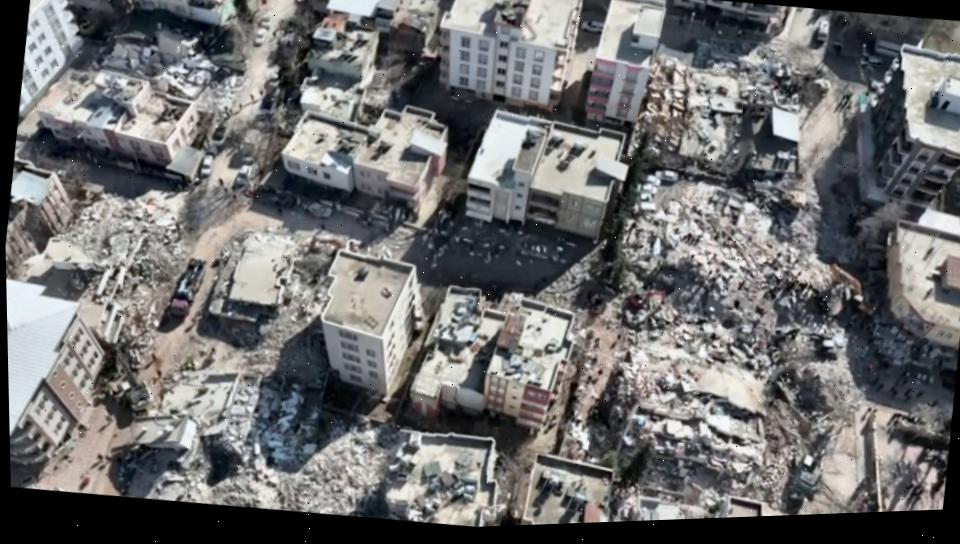kapali: (508, 252, 792, 378), (787, 130, 862, 513), (89, 329, 213, 500)
